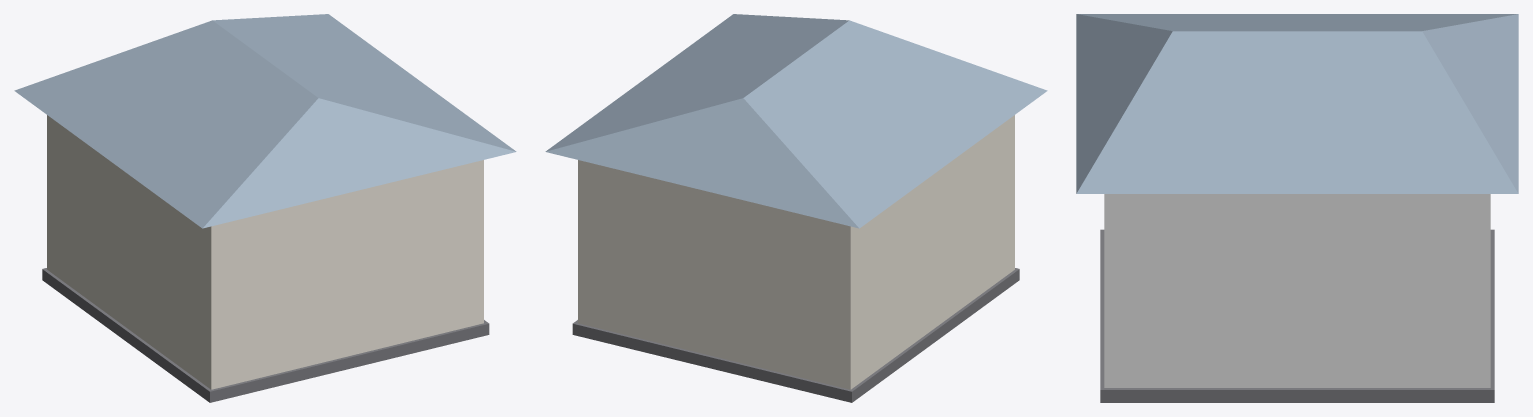
Rendered from Bldg_H.fbx.
3 renders of one model, left to right at view 1: azimuth 30°, elevation 25°; view 2: azimuth 150°, elevation 25°; view 3: azimuth 270°, elevation 25°, orthographic. The views are drawn at different scales.
Visible parts, largest first — view 1: Bldg_H; view 2: Bldg_H; view 3: Bldg_H.
Part boxes in pixels (x1,y1,x2,y2): Bldg_H: (14,14,516,402); Bldg_H: (545,14,1047,402); Bldg_H: (1076,14,1518,402).
Bounding box in the file's own units: 5.3 × 4 × 5.5.
